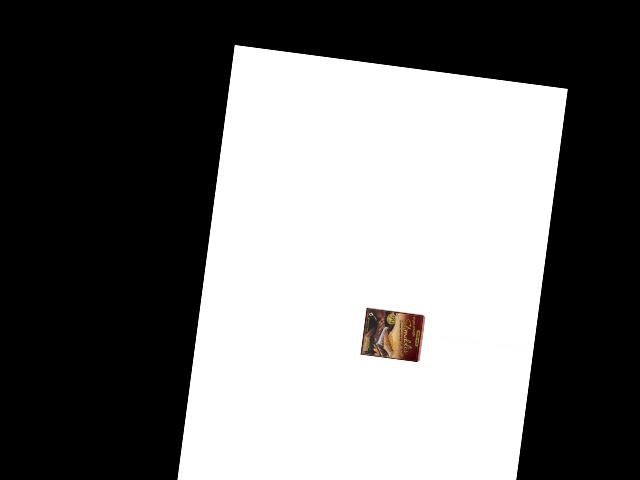chocolate: (360, 307, 425, 362)
